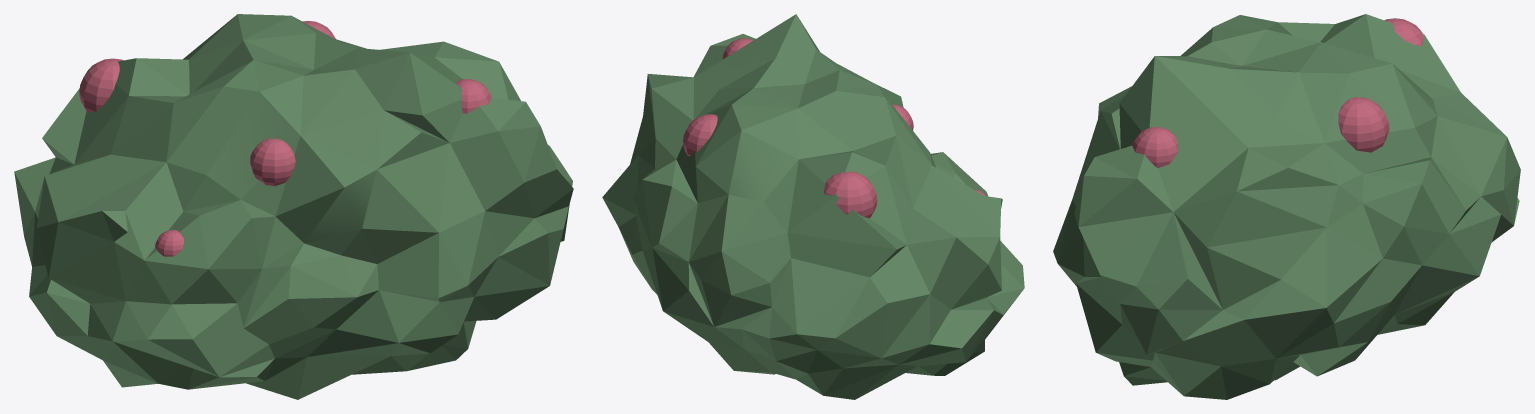
Rendered from shrub3.fbx.
The picture shows the model from 3 angles, left to right: view 1: azimuth 30°, elevation 25°; view 2: azimuth 150°, elevation 25°; view 3: azimuth 270°, elevation 25°; orthographic projection. The views are drawn at different scales.
Visible parts, largest first — view 1: shrub3, pSphere34, pSphere27, pSphere33, pSphere36; view 2: shrub3, pSphere27, pSphere35; view 3: shrub3, pSphere35, pSphere33, pSphere27.
Boxes of the visible parts, x1,y1,x2,y2 form: shrub3: (14, 14, 573, 399); pSphere34: (250, 138, 295, 186); pSphere27: (79, 58, 123, 112); pSphere33: (456, 79, 491, 113); pSphere36: (155, 229, 183, 256); shrub3: (602, 14, 1024, 399); pSphere27: (824, 171, 877, 218); pSphere35: (683, 114, 717, 156); shrub3: (1053, 14, 1520, 399); pSphere35: (1338, 97, 1389, 152); pSphere33: (1132, 127, 1178, 168); pSphere27: (1384, 18, 1423, 45).
Size of the model in its own units: 4.59 by 3.12 by 3.96.
